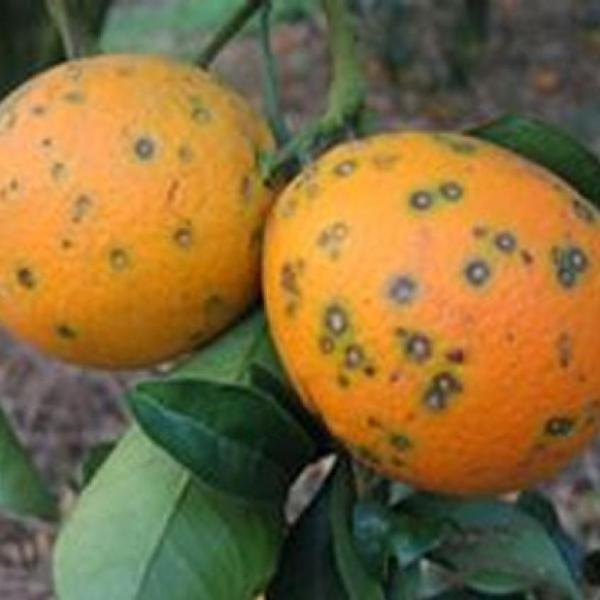Trips: (254, 125, 600, 500), (0, 46, 282, 361)
